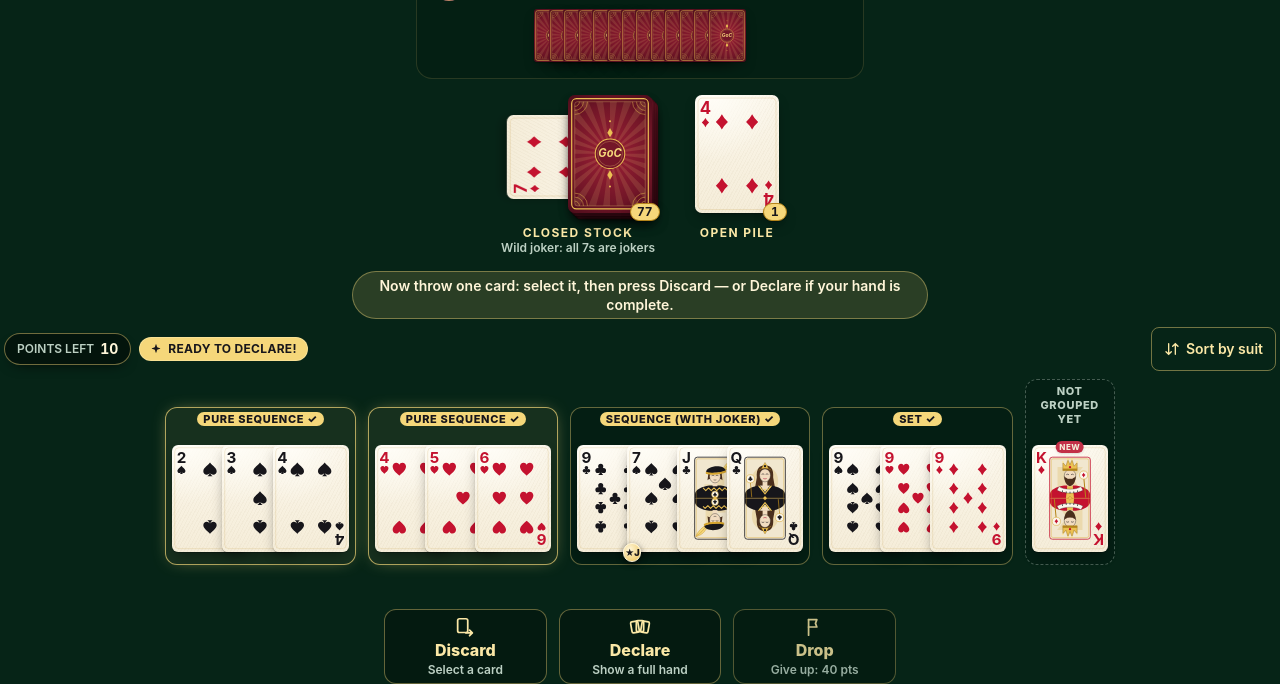
Test: IndianRummyBoard — moves › asks for a card first when Discard is pressed with nothing selected
(page scrolled)
Click the button with test id "rummy-discard": (465, 646) x1=384 y1=609 x2=547 y2=683
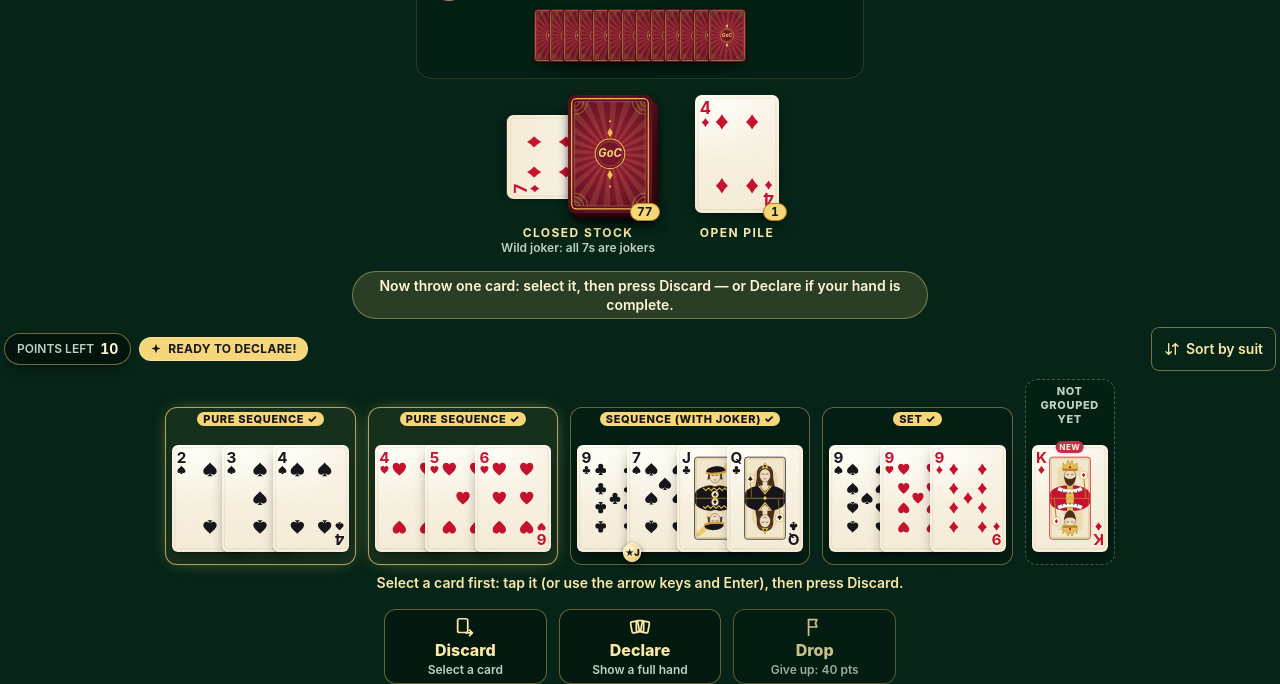
Result: the text with test id "rummy-note" shows "Select a card first: tap it (or use the arrow keys and Enter), then press Discard." at x1=377 y1=574 x2=903 y2=591
